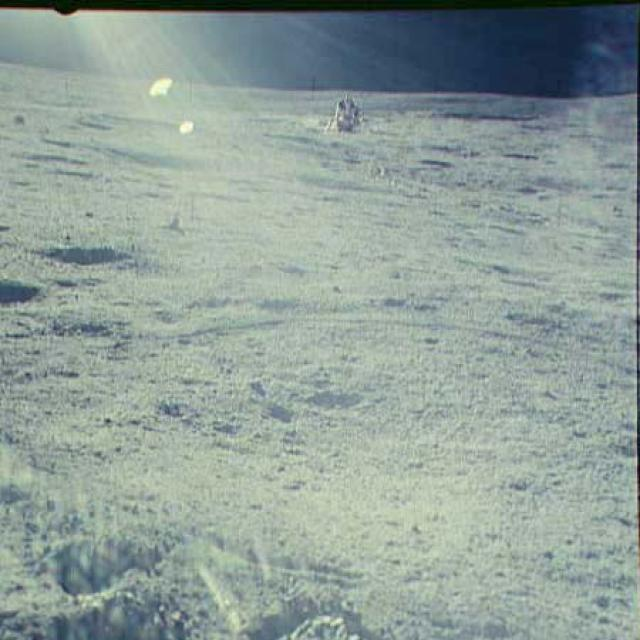crater: (20, 225, 237, 283), (282, 375, 384, 432), (0, 271, 76, 322)
